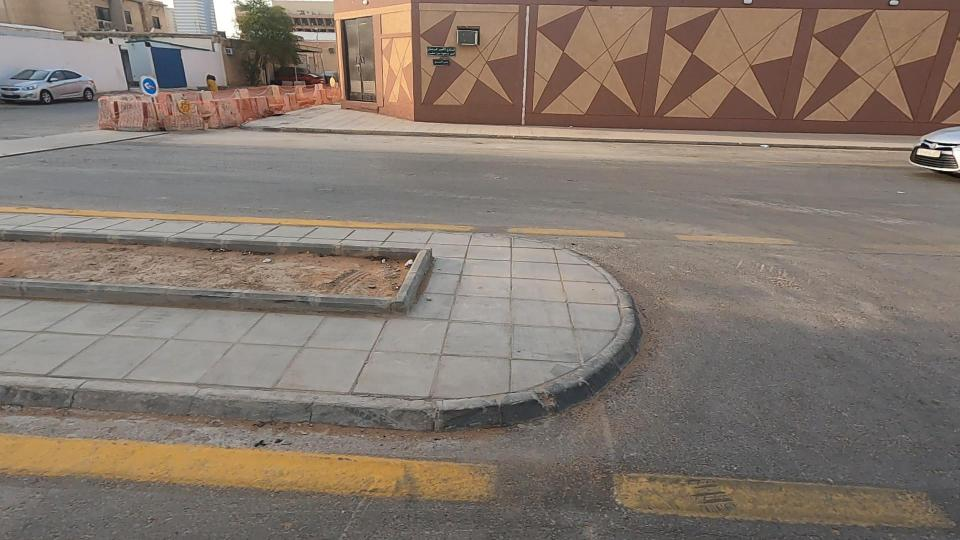CONSTRUCTION_ROAD: (0, 36, 446, 163)
